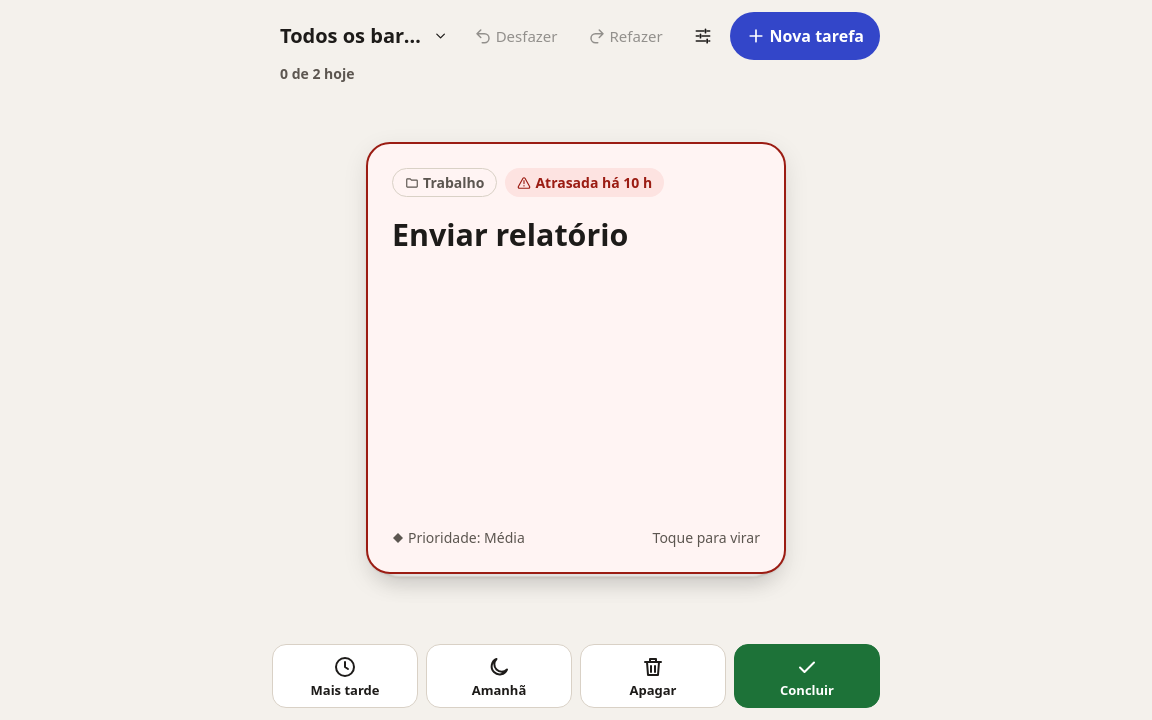
Scenario: deck switcher › closes with Escape and returns focus to the switcher
The image size is (1152, 720).
Click the button with aria-label "Baralho:" at (364, 36), box [272, 12, 457, 60]
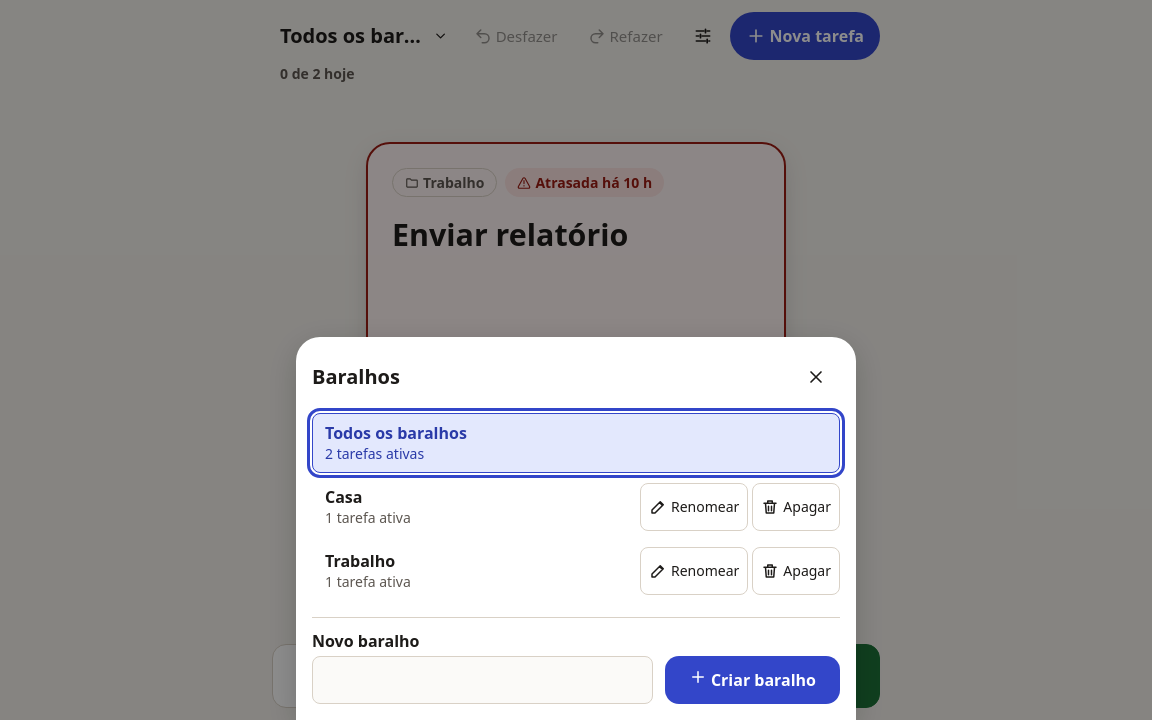
Press Escape
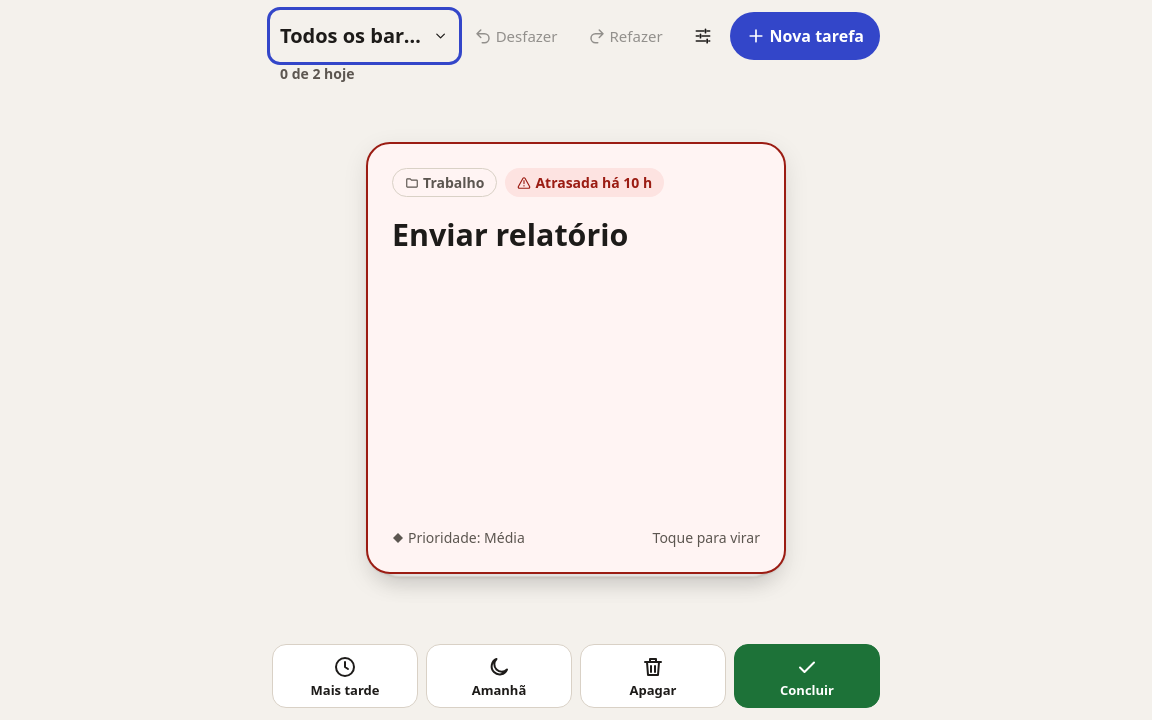
Expected: the dialog is gone
